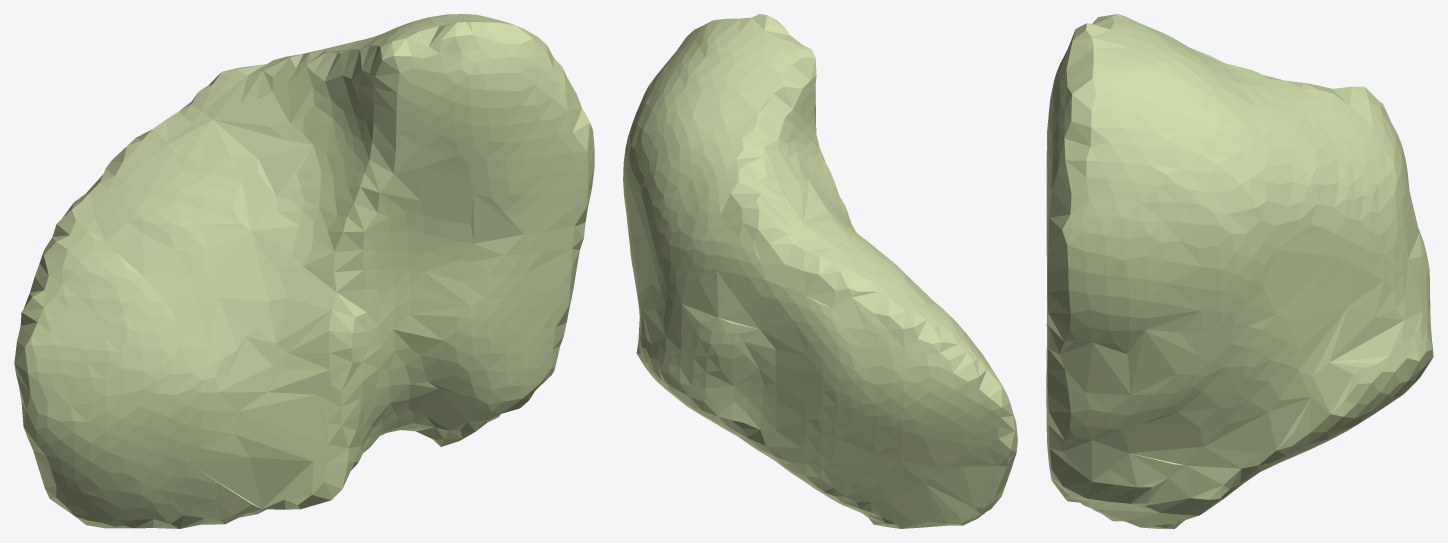
The model's file is Model_10228_LH__Accumbens_nucleus__core_(AcbC).obj.
The picture shows the model from 3 angles, left to right: view 1: azimuth 30°, elevation 25°; view 2: azimuth 150°, elevation 25°; view 3: azimuth 270°, elevation 25°; orthographic projection. The views are drawn at different scales.
Size of the model in its own units: 2.7 by 2.48 by 1.61.
